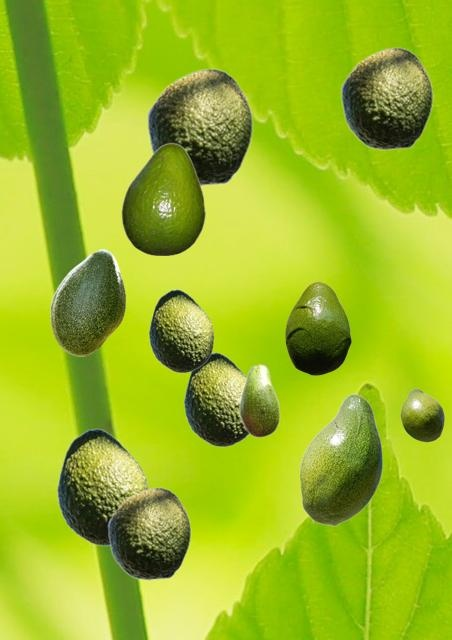avocado: (146, 68, 252, 185), (299, 393, 382, 525), (56, 428, 148, 545), (340, 47, 432, 149), (121, 142, 204, 254), (50, 249, 124, 355), (107, 487, 190, 579), (183, 352, 248, 446), (285, 281, 350, 374), (148, 289, 213, 372), (239, 363, 279, 437), (400, 388, 443, 441)
